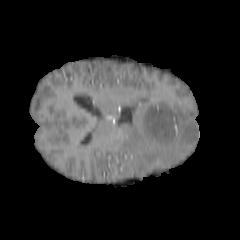glioma: (118, 103, 198, 174)
